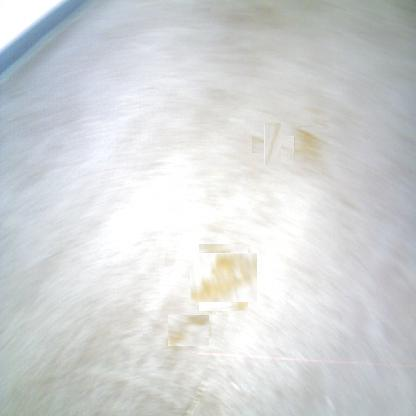liquid: (194, 248, 253, 307), (167, 314, 209, 346), (294, 126, 322, 160), (258, 130, 288, 159)
